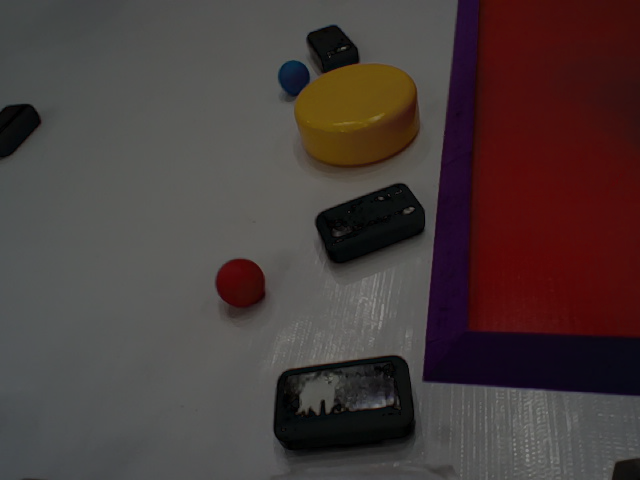black: (253, 354, 425, 458), (305, 177, 427, 267), (292, 13, 362, 75), (1, 92, 44, 174)
blue: (274, 57, 313, 95)
kuang: (419, 1, 640, 383)
red: (213, 258, 274, 313)
yellow: (294, 60, 423, 171)
